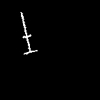double_crochet: (21, 13, 36, 53)
